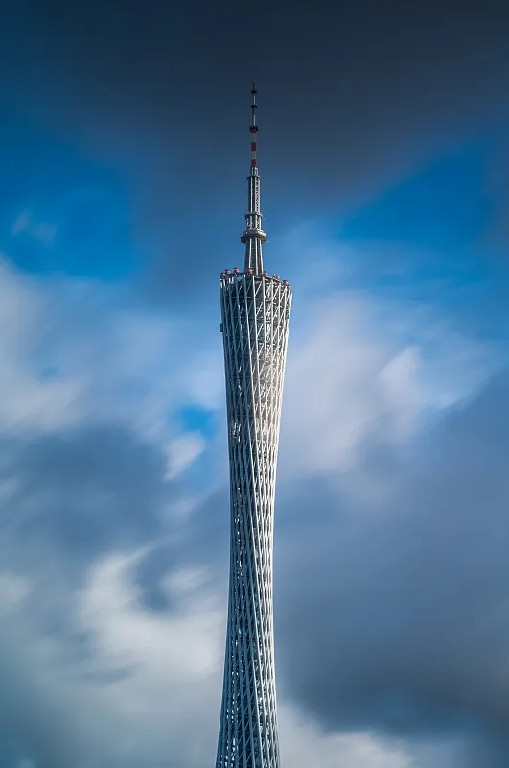Canton: (211, 82, 298, 768)
